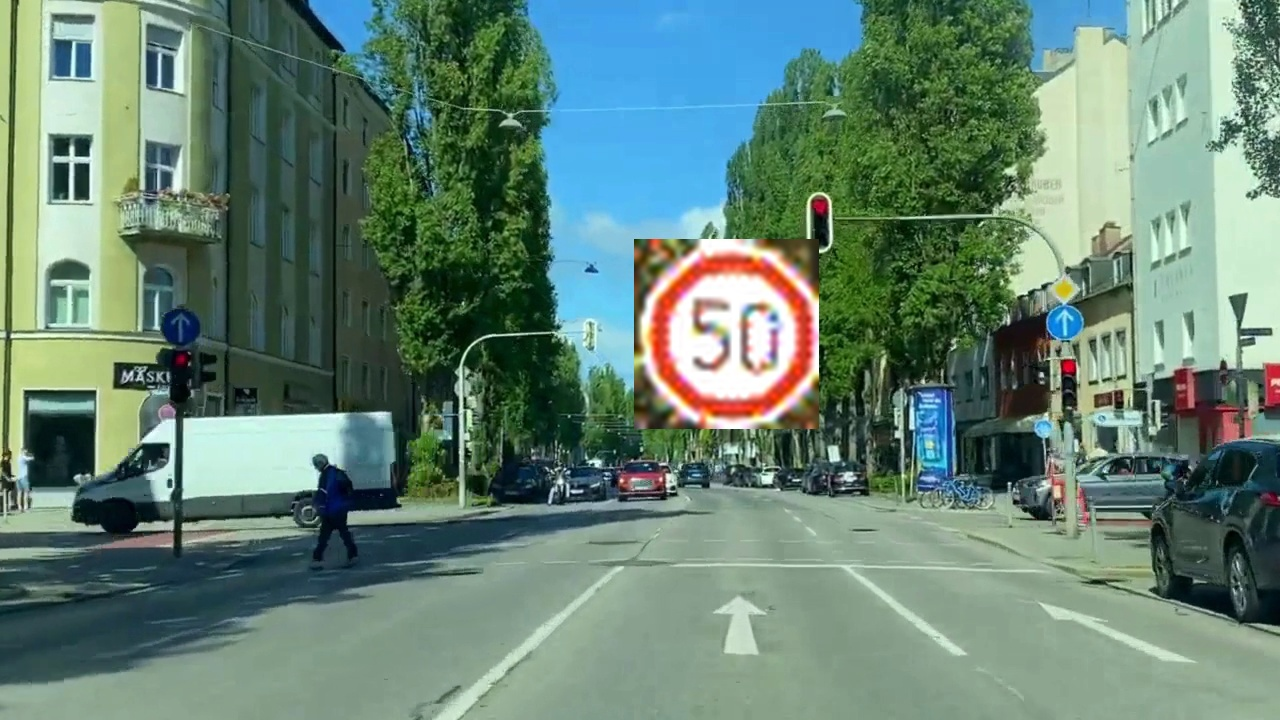Speed 50: (634, 239, 819, 429)
